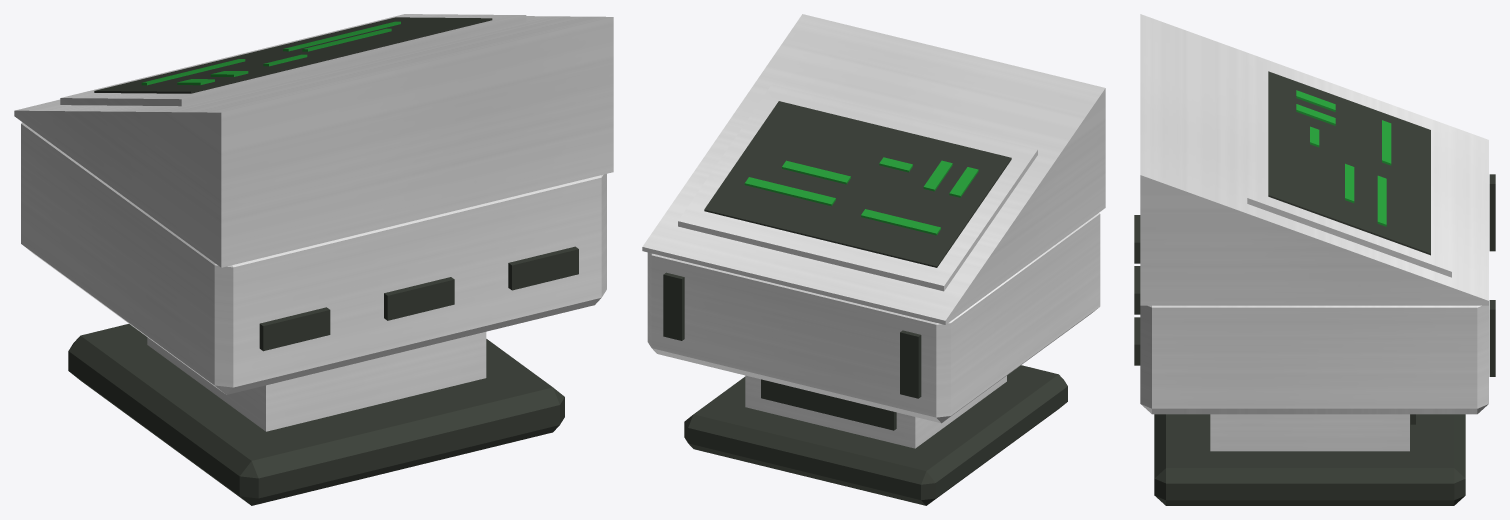
Rendered from ancient_terminal.obj.
The picture shows the model from 3 angles, left to right: view 1: azimuth 30°, elevation 25°; view 2: azimuth 150°, elevation 25°; view 3: azimuth 270°, elevation 25°; orthographic projection. The views are drawn at different scales.
Visible parts, largest first — view 1: ancient_terminal; view 2: ancient_terminal; view 3: ancient_terminal.
Part boxes in pixels (box(x1,y1,x2,y2)): ancient_terminal: box(14, 14, 613, 505); ancient_terminal: box(642, 14, 1105, 505); ancient_terminal: box(1134, 14, 1495, 505).
Bounding box in the file's own units: 0.82 × 0.83 × 0.777.
